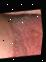plaque psoriasis: (0, 8, 45, 60)
